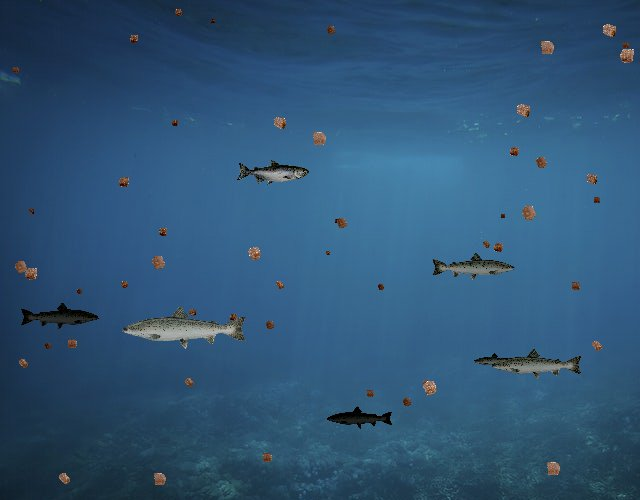Fish: (120, 304, 249, 350), (491, 348, 585, 382), (430, 251, 516, 282), (19, 301, 100, 330), (236, 159, 309, 185), (326, 405, 394, 430), (473, 352, 520, 369)
Pellet: (612, 40, 640, 70), (240, 239, 268, 267), (266, 109, 293, 136), (52, 466, 77, 491), (25, 206, 37, 218)
